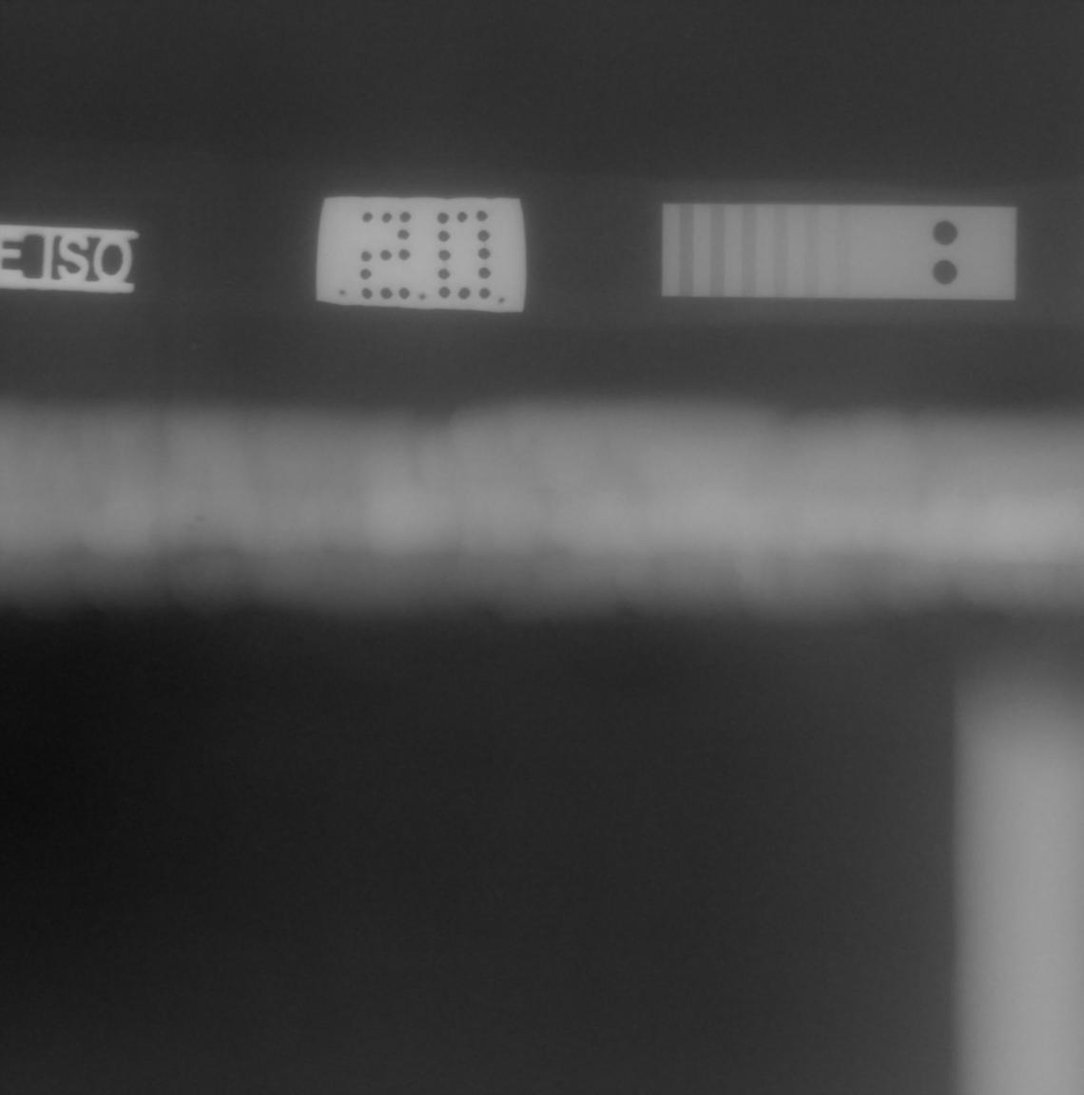Pore/Porosity: (188, 524, 196, 531), (194, 516, 203, 522)
Reference Standard 2: (661, 203, 1016, 301)
